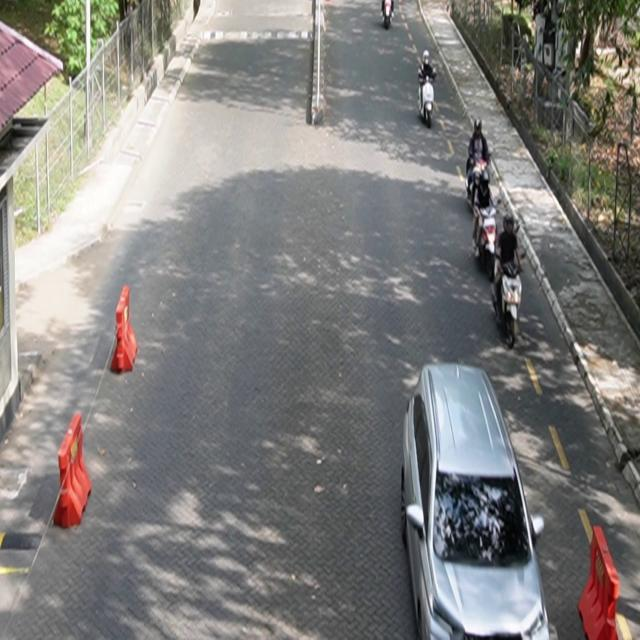car: (401, 362, 551, 640)
